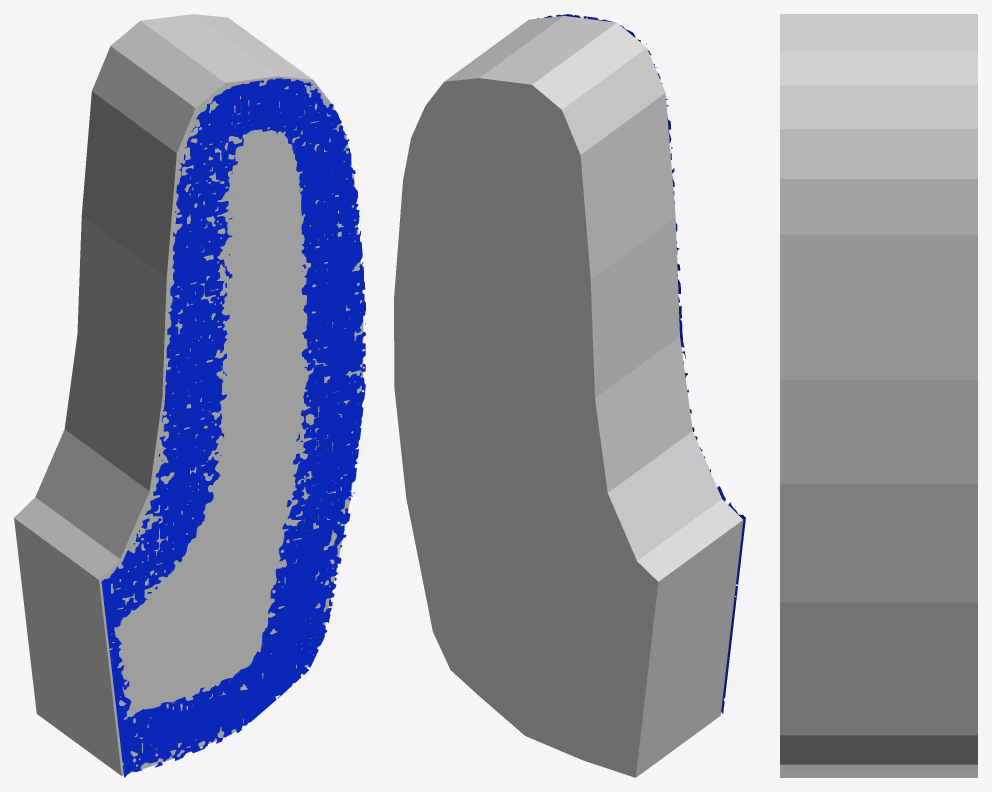
The picture shows the model from 3 angles, left to right: view 1: azimuth 30°, elevation 25°; view 2: azimuth 150°, elevation 25°; view 3: azimuth 270°, elevation 25°; orthographic projection. The views are drawn at different scales.
Parts seen in each view (by area): view 1: In4_0, In4_1; view 2: In4_0, In4_1; view 3: In4_0.
Part boxes in pixels (<box>): In4_0: <box>14,14,363,775</box>; In4_1: <box>101,78,365,777</box>; In4_0: <box>394,16,743,777</box>; In4_1: <box>537,14,745,713</box>; In4_0: <box>780,14,977,777</box>.
Bounding box in the file's own units: 0.8978 × 2.17 × 0.515.
2 materials, 1 textured.
